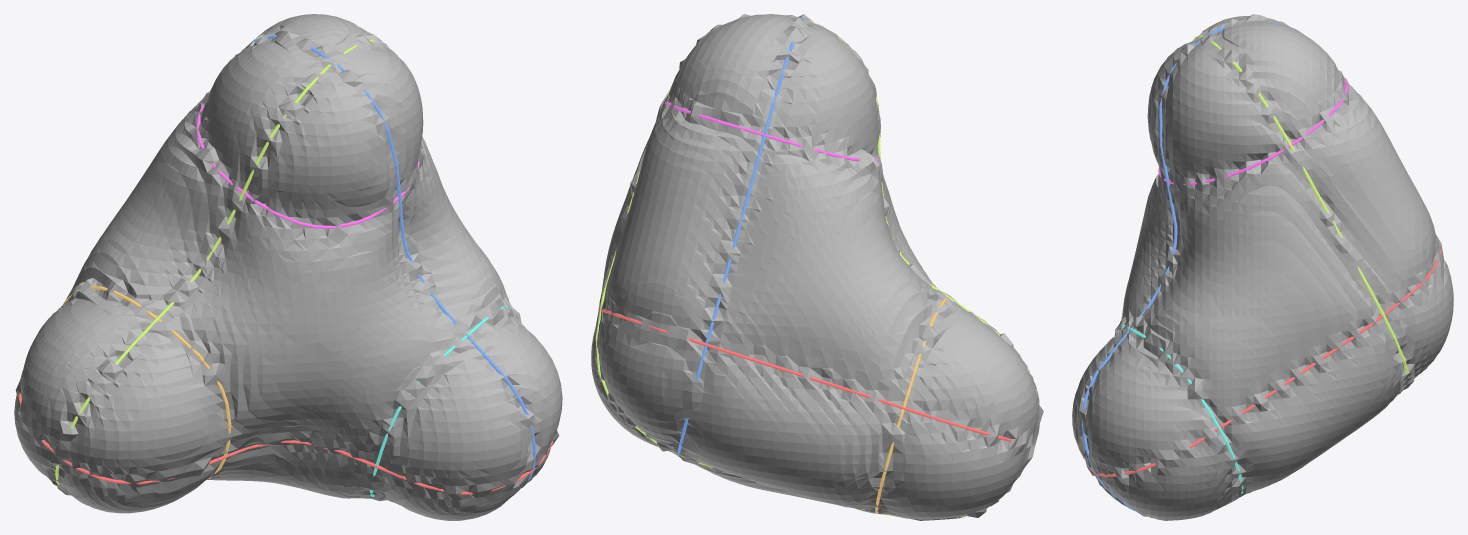
The model's file is flowrep_trebol.gltf.
3 renders of one model, left to right at view 1: azimuth 30°, elevation 25°; view 2: azimuth 150°, elevation 25°; view 3: azimuth 270°, elevation 25°, orthographic. The views are drawn at different scales.
Bounding box in the file's own units: 0.6449 × 0.6338 × 0.4939.
